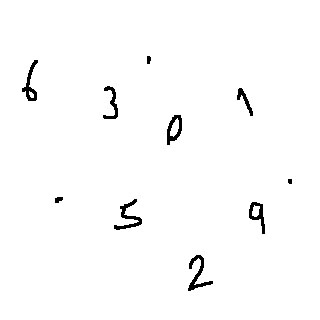.: (48, 191, 69, 212), (281, 173, 299, 192)
0: (156, 109, 193, 152)
1: (230, 82, 260, 126)
2: (178, 248, 219, 296)
3: (97, 80, 131, 131)
5: (106, 190, 152, 237)
6: (13, 57, 55, 107)
9: (244, 197, 276, 241)
